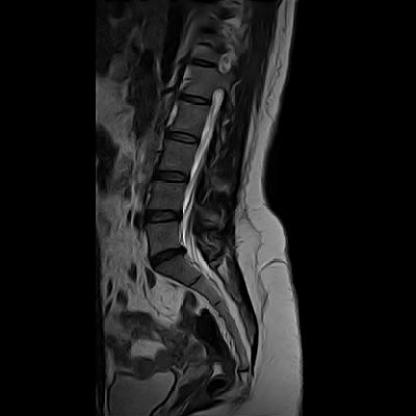Disc Bulgerotation: (146, 206, 182, 225)
Disc Protrusionrotation: (147, 248, 188, 266)
